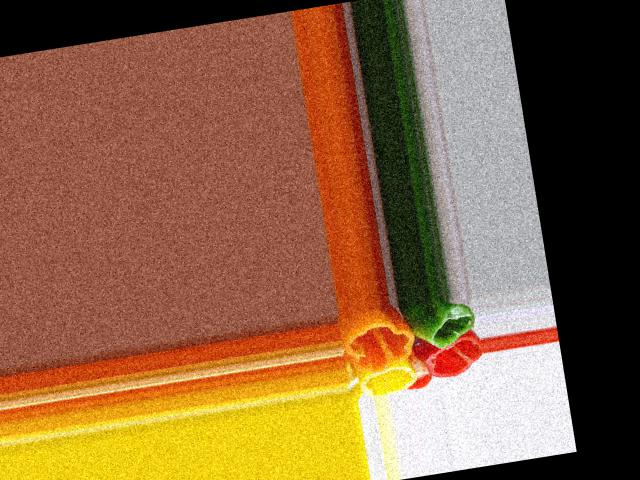bell_pepper: (422, 336, 483, 382)
